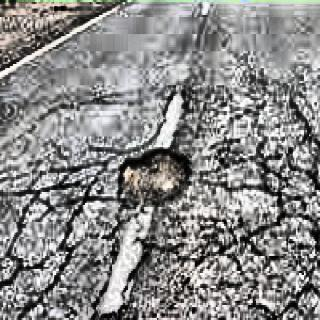alligator-crack: (13, 94, 320, 320)
pothole: (114, 148, 193, 205)
